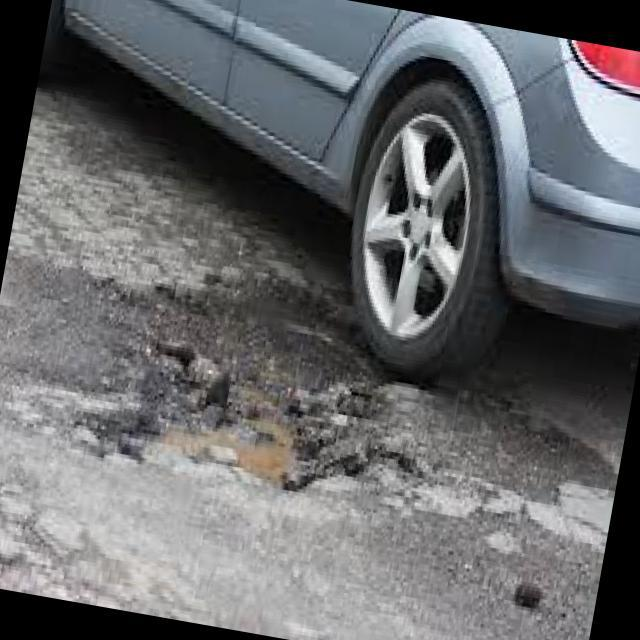Pothole: (152, 268, 392, 515)
